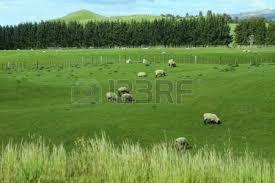sheep: (203, 113, 221, 128), (176, 138, 194, 149), (120, 94, 139, 104), (107, 91, 120, 103), (115, 86, 131, 95), (142, 59, 156, 68), (155, 68, 168, 77), (134, 70, 148, 78), (167, 56, 176, 68), (126, 59, 137, 67)
